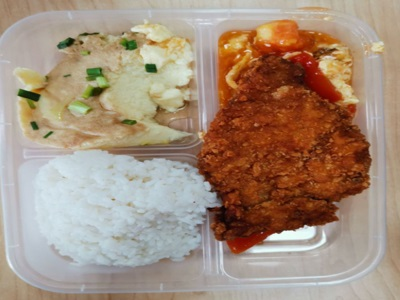jdg: (18, 35, 185, 147)
jp: (223, 76, 340, 239)
rice: (35, 151, 199, 267)
